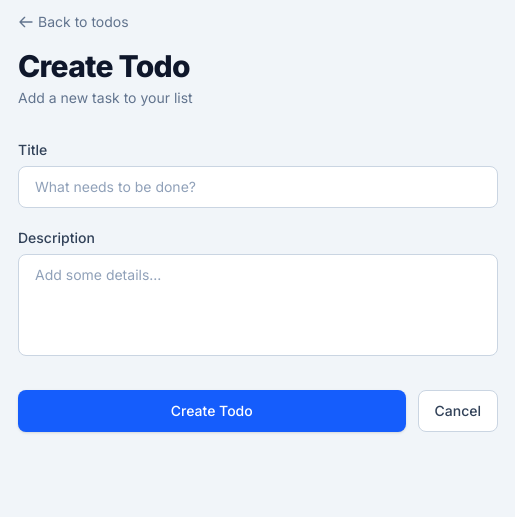
CreateTodoPage › should show an error if title is empty
Click the button "Create Todo" at coordinates (212, 411), box [18, 390, 406, 432]
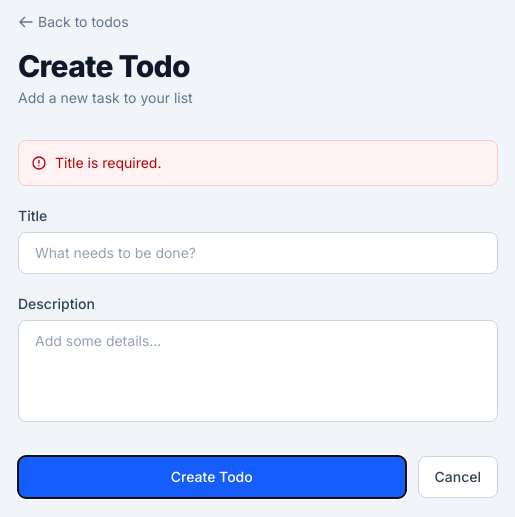
Result: the text "Title is required." is shown at [18, 140, 498, 186]
